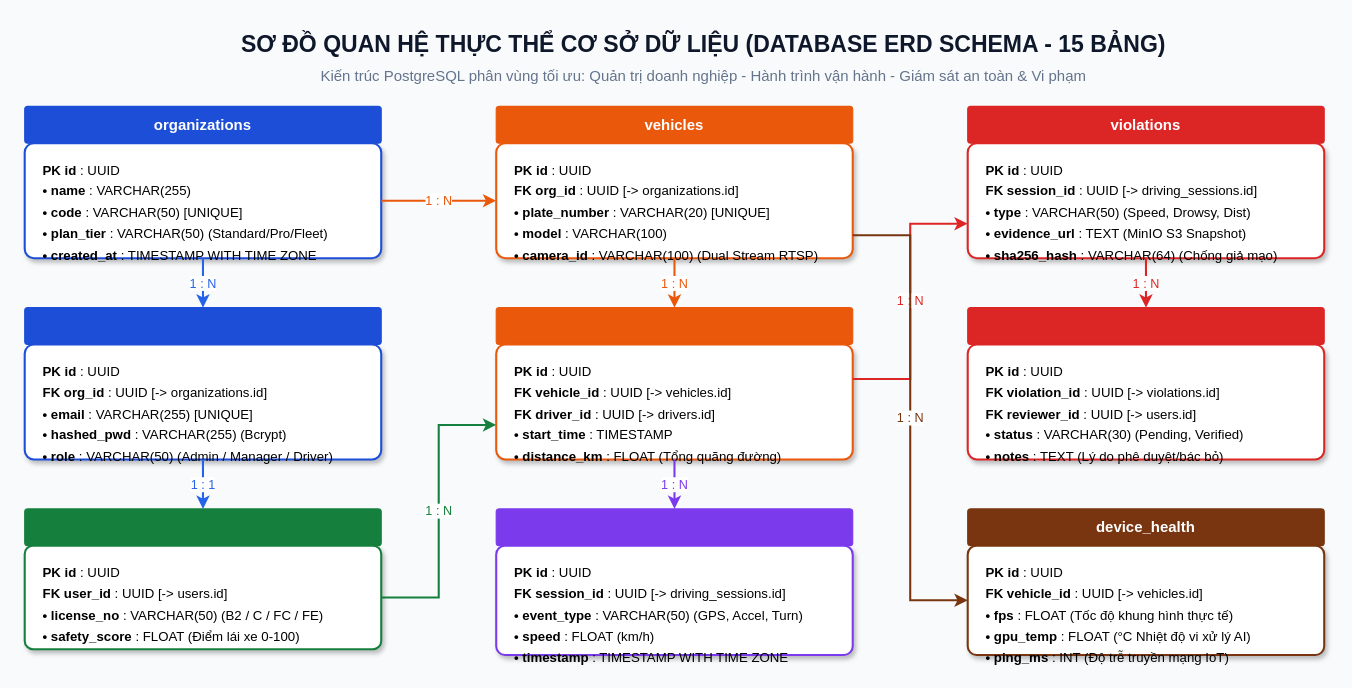
Image size: 1352x688. Some labels were removed from this diagram. Each missing label, with the centre of its shape:
"drivers" belongs at point 202,527.
"driving_sessions" belongs at point 674,325.
"trip_events" belongs at point 674,527.
"users" belongs at point 202,325.
"violation_reviews" belongs at point 1145,325.
